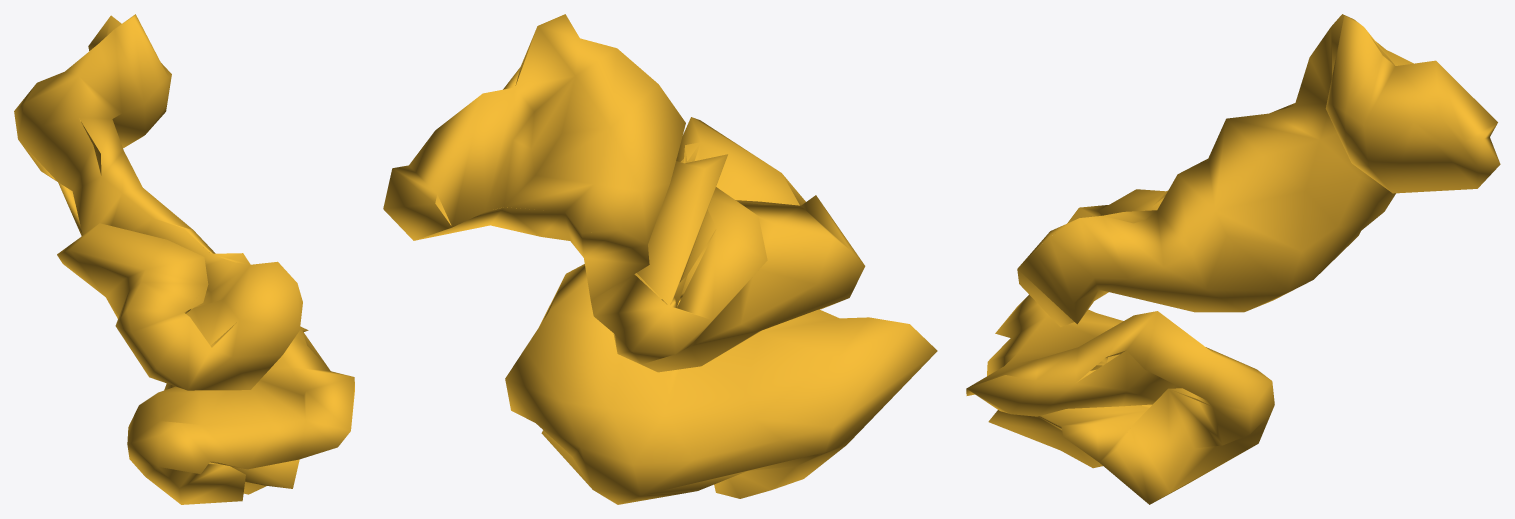
File: nervoso-paracentral-sulcus-l.glb
3 views of the same model, side by side, from view 1: azimuth 30°, elevation 25°; view 2: azimuth 150°, elevation 25°; view 3: azimuth 270°, elevation 25° (orthographic). The views are drawn at different scales.
Parts seen in each view (by area): view 1: Paracentral sulcus.l; view 2: Paracentral sulcus.l; view 3: Paracentral sulcus.l.
Part boxes in pixels (left/top/right/bottom): Paracentral sulcus.l: left=14, top=14, right=354, bottom=504; Paracentral sulcus.l: left=383, top=14, right=937, bottom=504; Paracentral sulcus.l: left=966, top=14, right=1500, bottom=504.
Size of the model in its own units: 0.0189 by 0.0338 by 0.0362.
